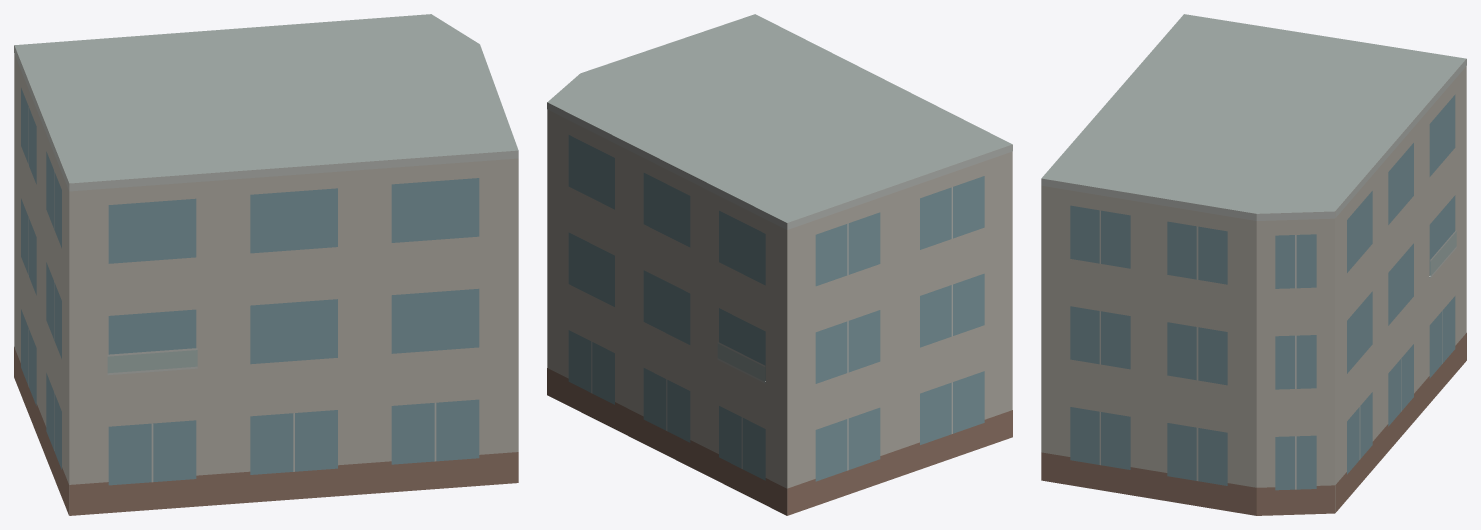
The model's file is survey-upis-32879500.glb.
3 renders of one model, left to right at view 1: azimuth 30°, elevation 25°; view 2: azimuth 150°, elevation 25°; view 3: azimuth 270°, elevation 25°, orthographic. The views are drawn at different scales.
Parts seen in each view (by area): view 1: survey-upis-32879500.tmp; view 2: survey-upis-32879500.tmp; view 3: survey-upis-32879500.tmp.
Part boxes in pixels (x1,y1,x2,y2): survey-upis-32879500.tmp: (14, 14, 518, 515); survey-upis-32879500.tmp: (547, 14, 1012, 515); survey-upis-32879500.tmp: (1041, 14, 1466, 515).
Bounding box in the file's own units: 14.49 × 10.2 × 13.03.
